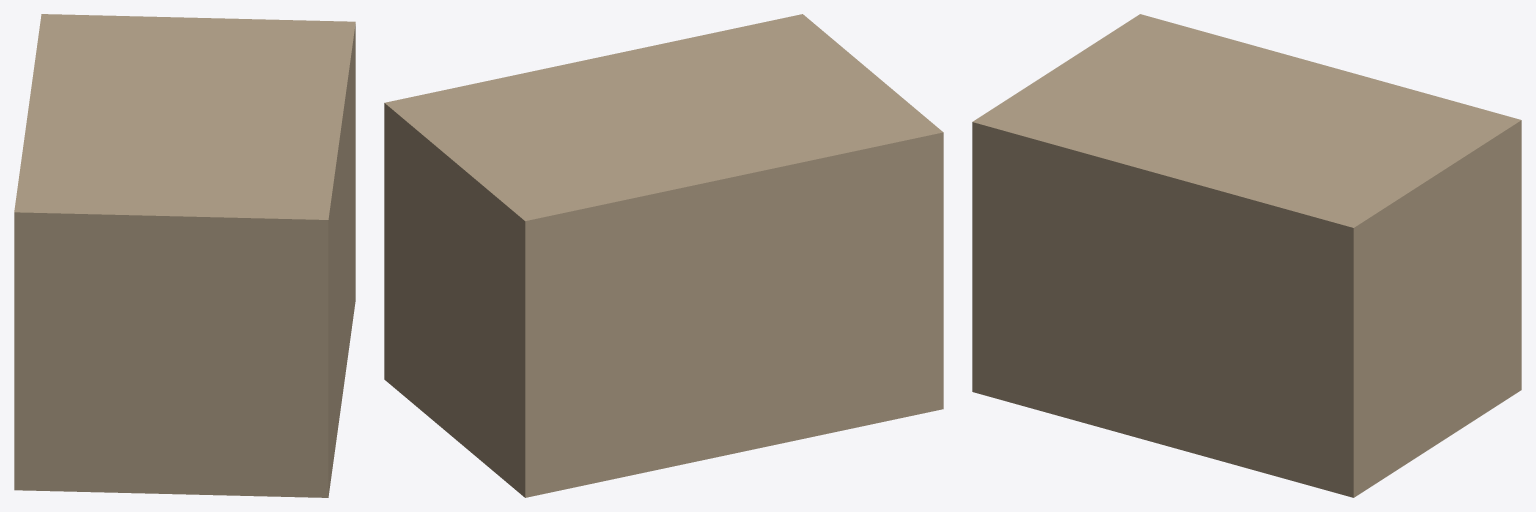
The model's file is bld_101353788.dae.
3 views of the same model, side by side, from view 1: azimuth 30°, elevation 25°; view 2: azimuth 150°, elevation 25°; view 3: azimuth 270°, elevation 25° (orthographic). The views are drawn at different scales.
Parts seen in each view (by area): view 1: bld_101353788; view 2: bld_101353788; view 3: bld_101353788.
Boxes of the visible parts, x1=… form: bld_101353788: x1=14, y1=14, x2=355, y2=497; bld_101353788: x1=384, y1=14, x2=943, y2=497; bld_101353788: x1=972, y1=14, x2=1521, y2=497.
Bounding box in the file's own units: 13.6 × 14.76 × 8.
